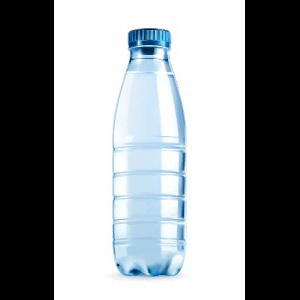emptybottle: (113, 29, 186, 276)
